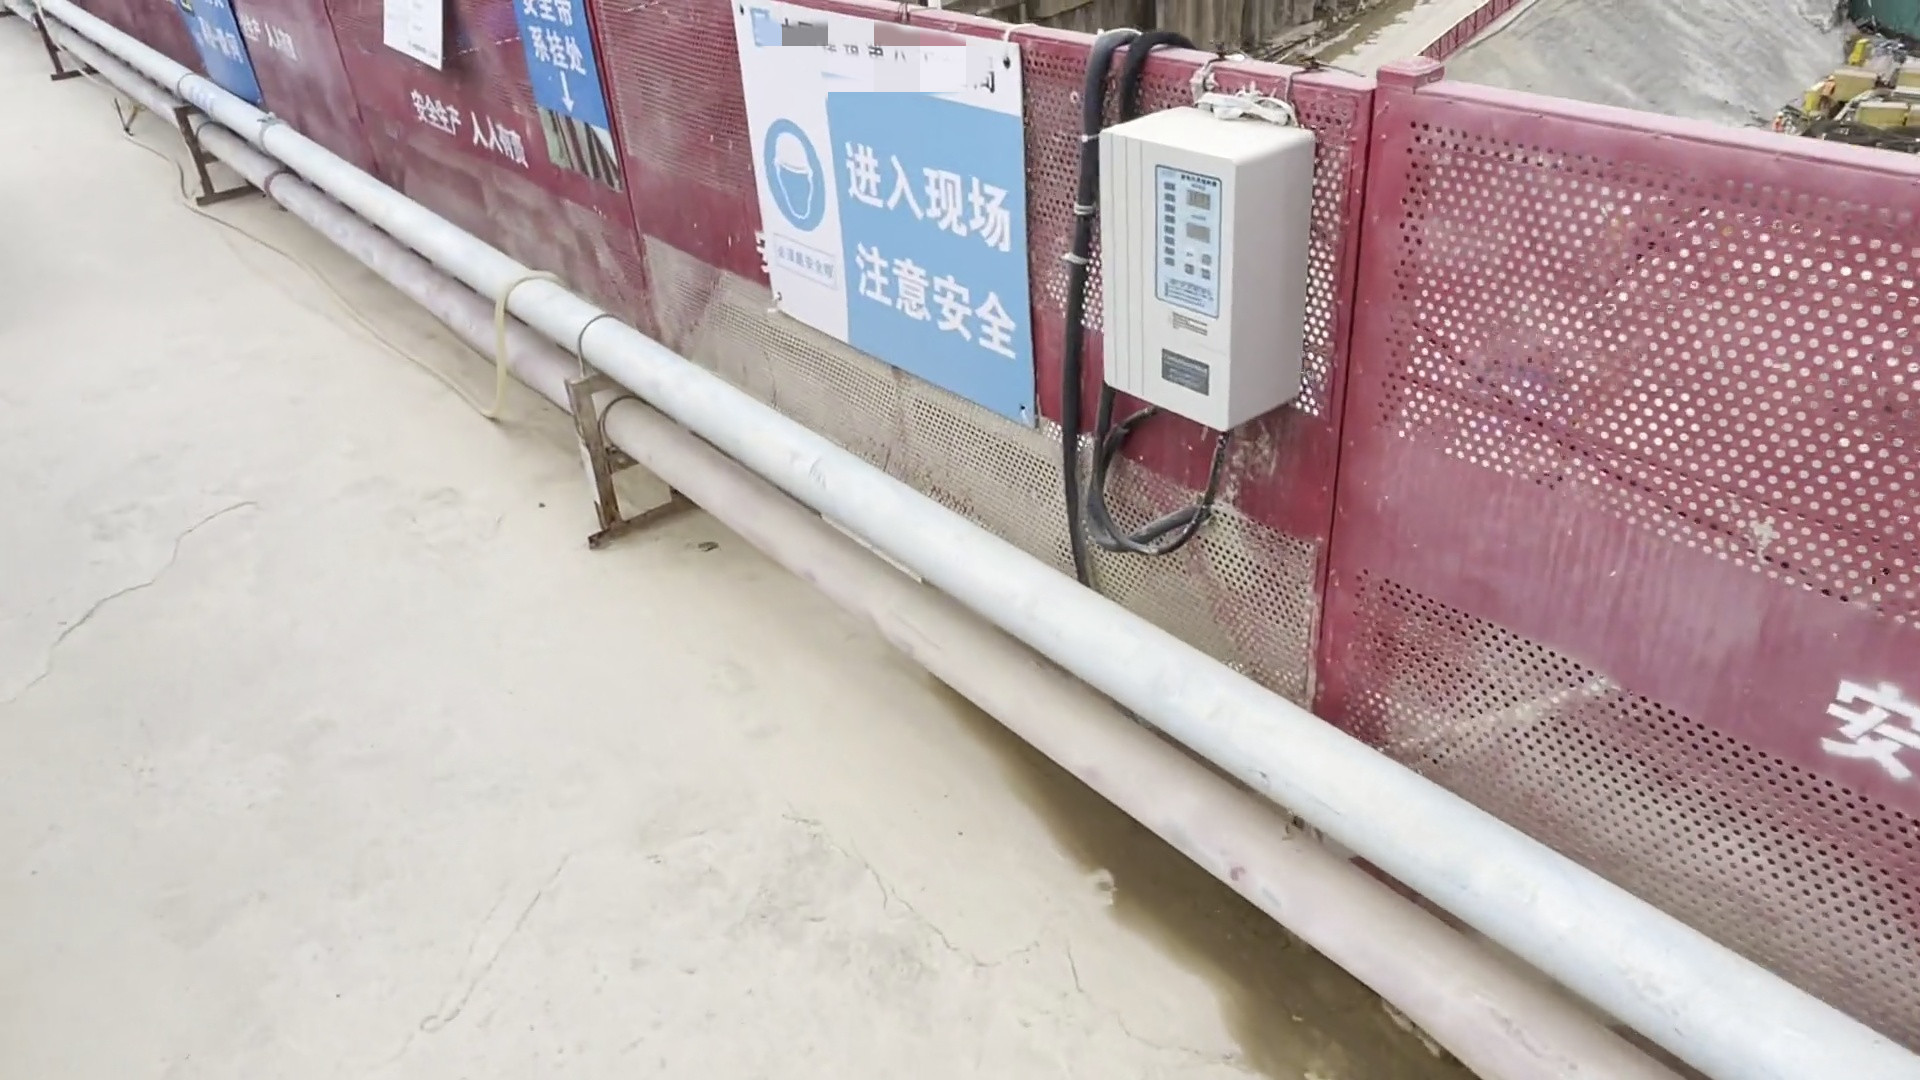ebox: (1088, 90, 1335, 506)
fence: (1367, 70, 1920, 968)
slogan: (737, 1, 1043, 431), (380, 1, 618, 131), (181, 1, 258, 107)
